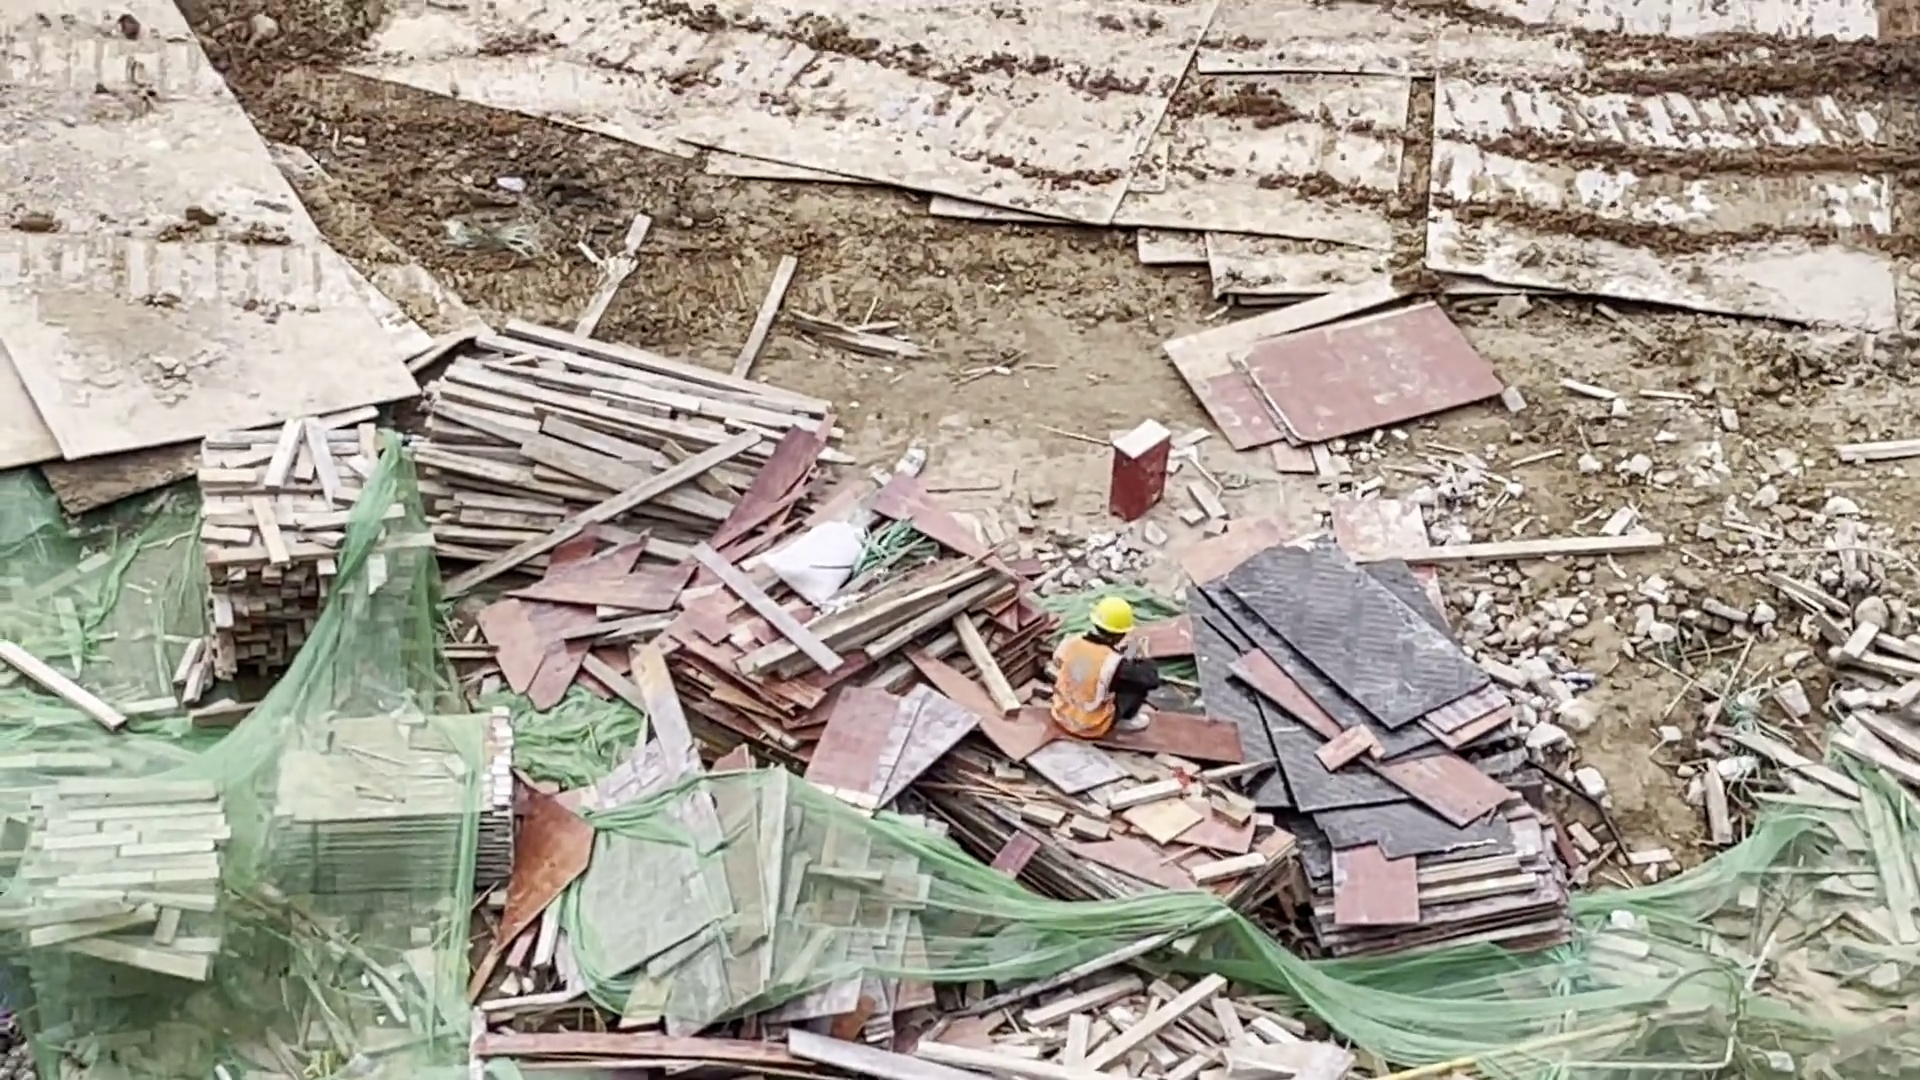board: (1235, 549, 1549, 971), (295, 720, 521, 879)
helmet: (1087, 594, 1134, 635)
person: (1045, 598, 1153, 739)
vest: (1053, 636, 1115, 735)
wood: (196, 438, 412, 684), (26, 779, 226, 972)
